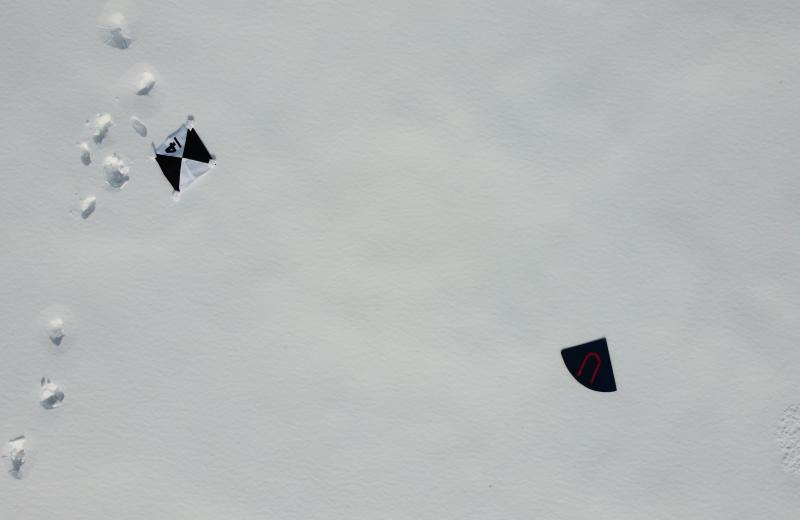Quarter Circle: (560, 338, 618, 396)
